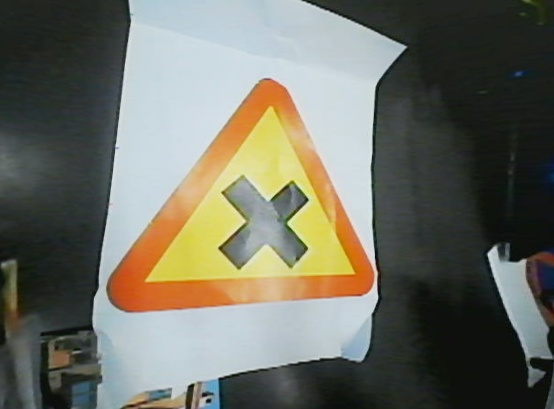junction: (87, 62, 388, 317)
